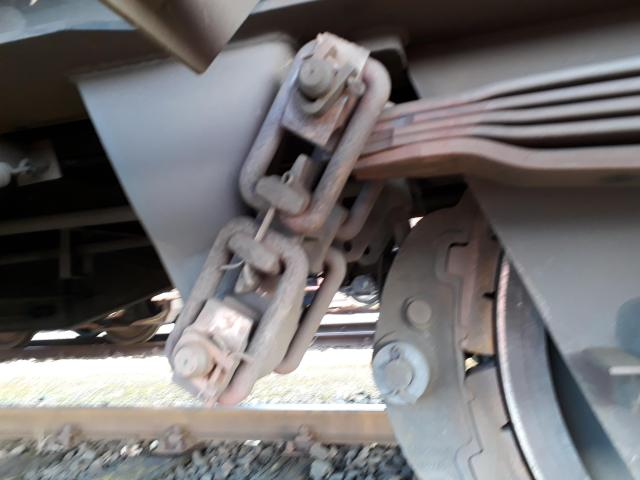blattfederww: (314, 85, 640, 176)
